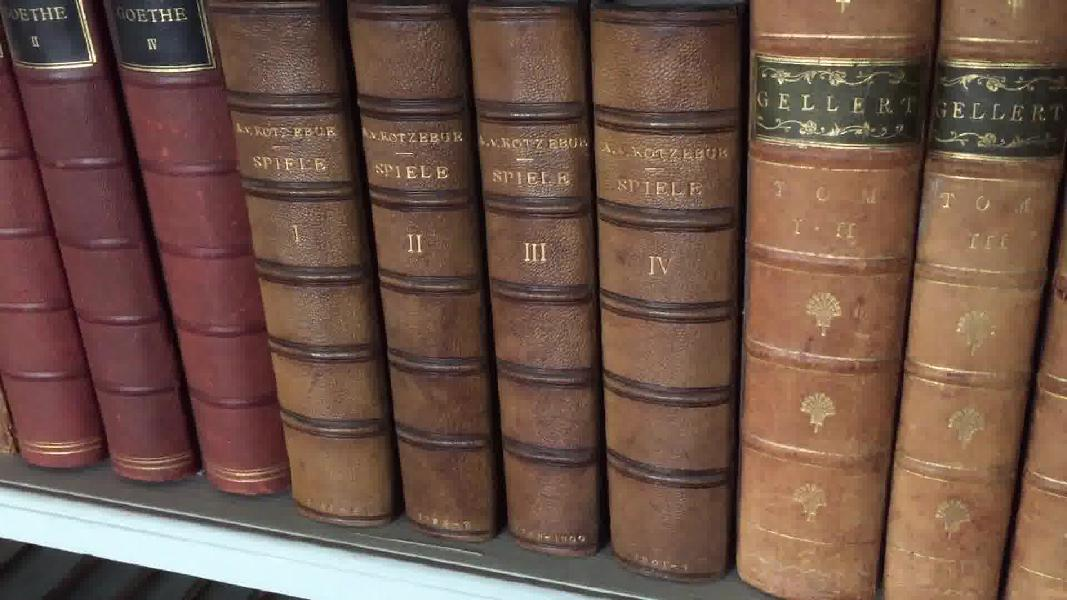Aa6-11_13: (2, 7, 300, 504)
Aa6-14_17: (208, 2, 739, 588)
